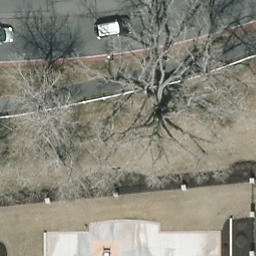car: (91, 21, 134, 39), (0, 26, 17, 46)
